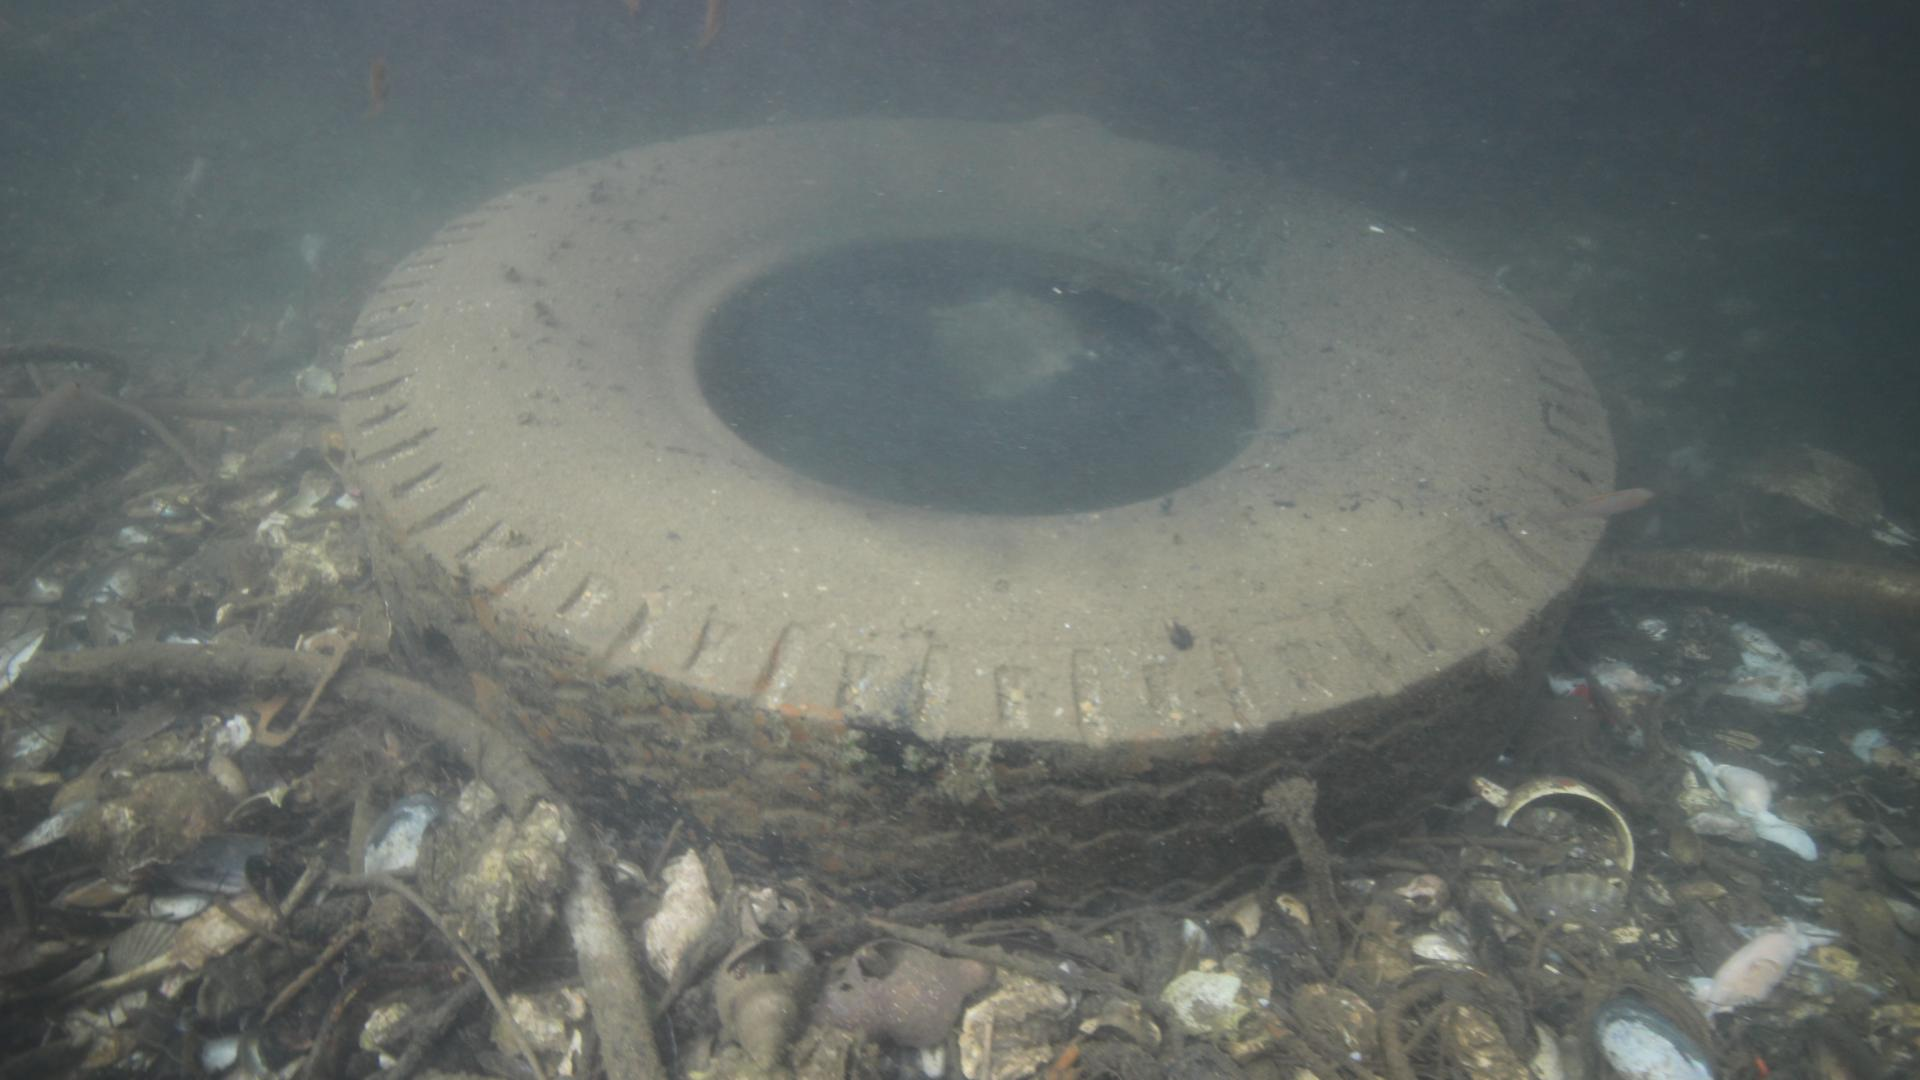tire: (338, 113, 1611, 931)
